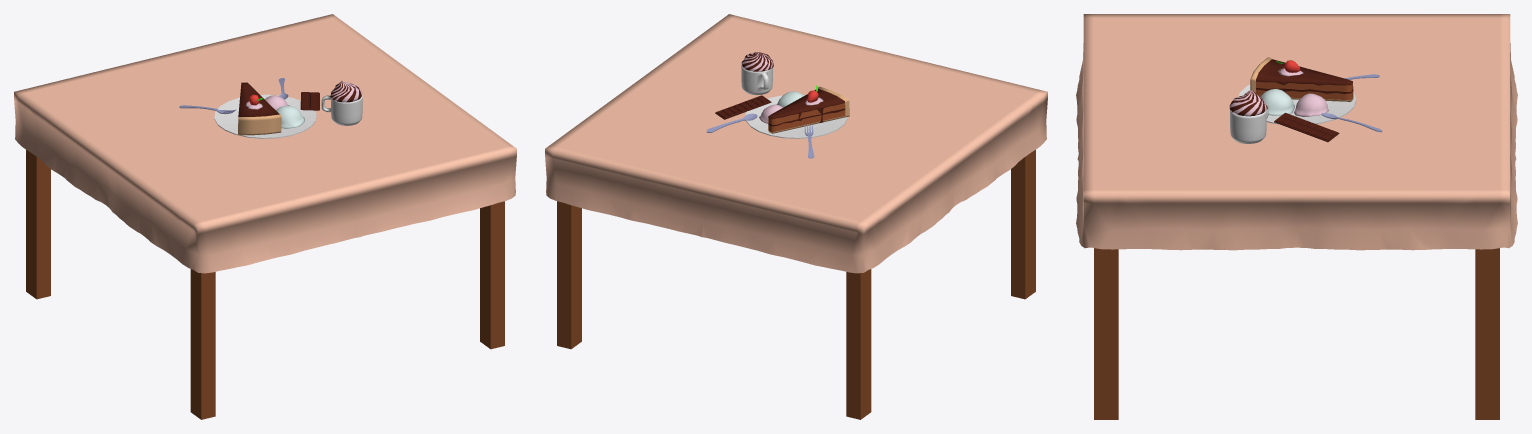
File: 2019DessertChallenge.fbx
3 renders of one model, left to right at view 1: azimuth 30°, elevation 25°; view 2: azimuth 150°, elevation 25°; view 3: azimuth 270°, elevation 25°, orthographic. The views are drawn at different scales.
Parts seen in each view (by area): view 1: Table, Cake, Plate, Circle, Ice; view 2: Table, Cake, Circle, Plate, ChocoBar; view 3: Table, Cake, Circle, Plate, ChocoBar, Ice, Ice.001.
Part boxes in pixels (x1=…): Table: x1=14, y1=14, x2=516, y2=419; Cake: x1=238, y1=82, x2=281, y2=135; Plate: x1=214, y1=94, x2=316, y2=138; Circle: x1=321, y1=80, x2=362, y2=125; Ice: x1=276, y1=105, x2=304, y2=128; Table: x1=545, y1=14, x2=1047, y2=419; Cake: x1=768, y1=86, x2=849, y2=133; Circle: x1=741, y1=52, x2=773, y2=95; Plate: x1=745, y1=95, x2=847, y2=138; ChocoBar: x1=715, y1=95, x2=771, y2=119; Table: x1=1076, y1=14, x2=1517, y2=419; Cake: x1=1250, y1=57, x2=1353, y2=101; Circle: x1=1229, y1=90, x2=1268, y2=143; Plate: x1=1238, y1=84, x2=1356, y2=124; ChocoBar: x1=1274, y1=112, x2=1339, y2=142; Ice: x1=1261, y1=89, x2=1294, y2=115; Ice.001: x1=1294, y1=93, x2=1328, y2=116.
Bounding box in the file's own units: 216 × 150 × 218.
